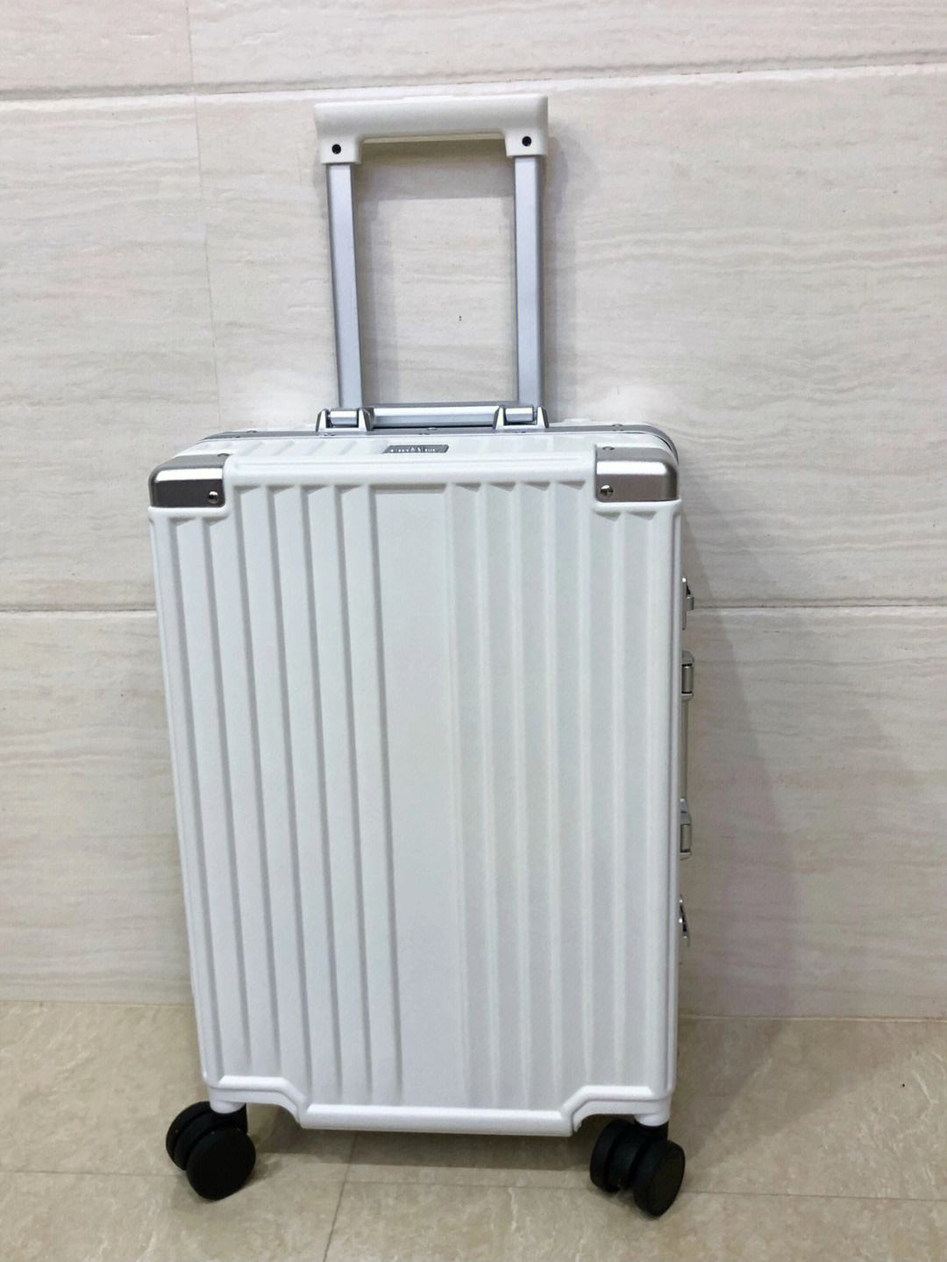box: (149, 417, 685, 1138)
handle: (311, 402, 550, 432)
wheel: (589, 1118, 686, 1220), (164, 1102, 257, 1200)
